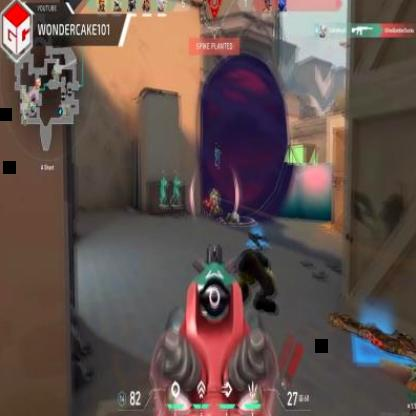enemy: (209, 187, 220, 221)
enemy_head: (213, 187, 216, 196)
